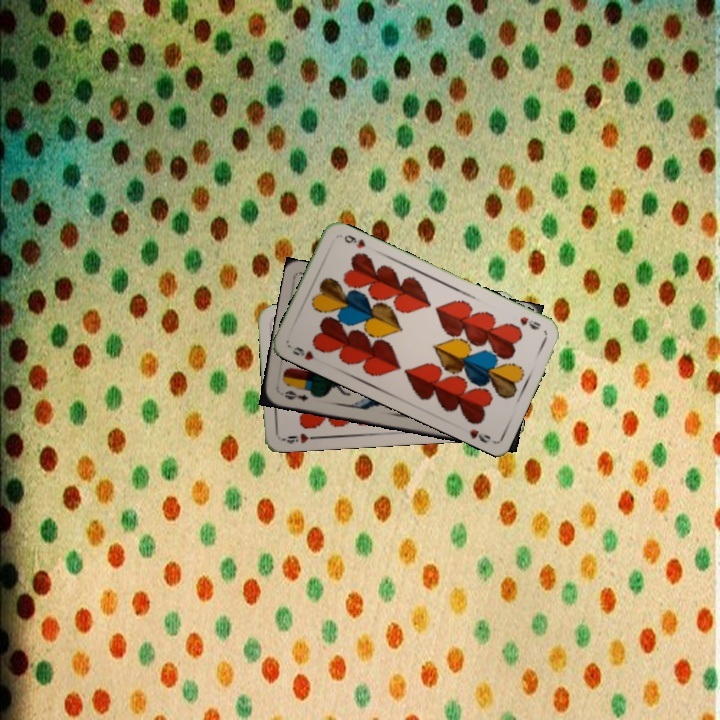EO: (281, 386, 311, 404)
H9: (279, 429, 320, 447), (288, 342, 317, 363), (515, 312, 543, 332)
